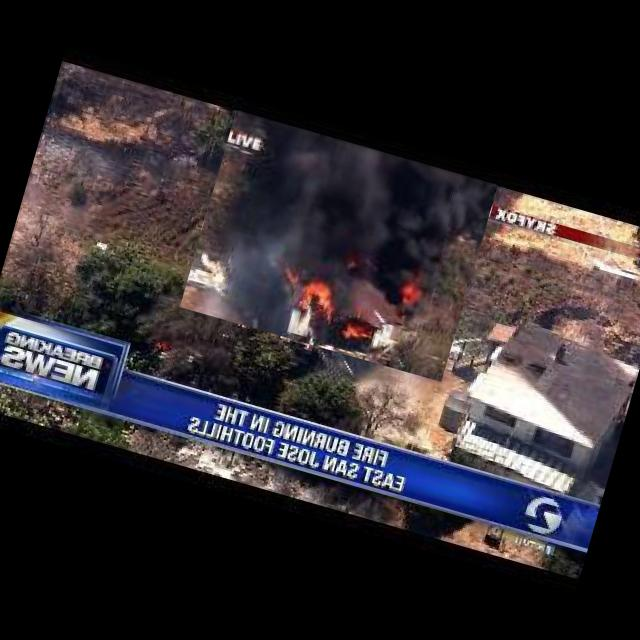fire: (180, 105, 498, 382)
